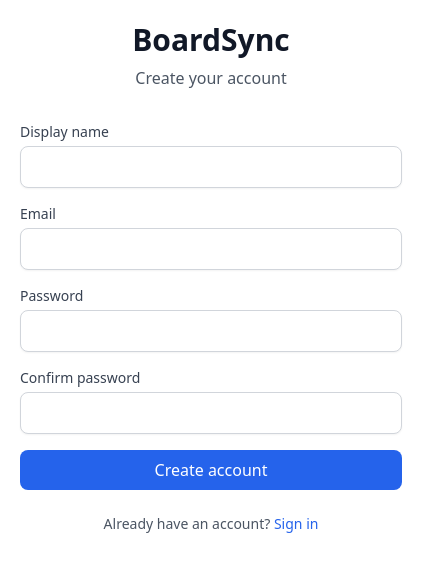
Test: RegisterPage › rejects mismatching passwords
In the field labelled "Display name": [211, 167] box [20,146,402,188], type "Ann"
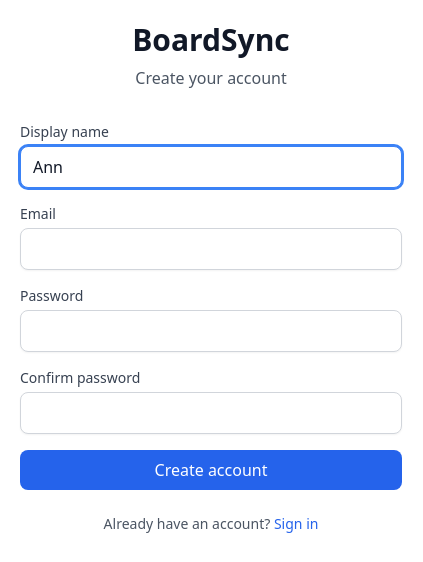
In the field labelled "Email": [211, 249] box [20,228,402,270], type "ann@example.com"
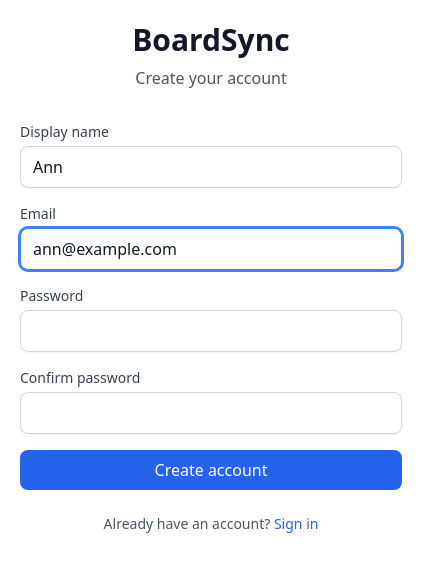
In the password field labelled "Password": [211, 331] box [20,310,402,352], type "password1"
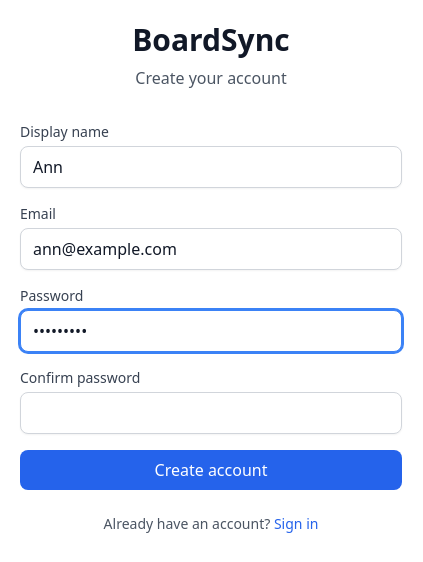
In the password field labelled "Confirm password": [211, 413] box [20,392,402,434], type "password2"
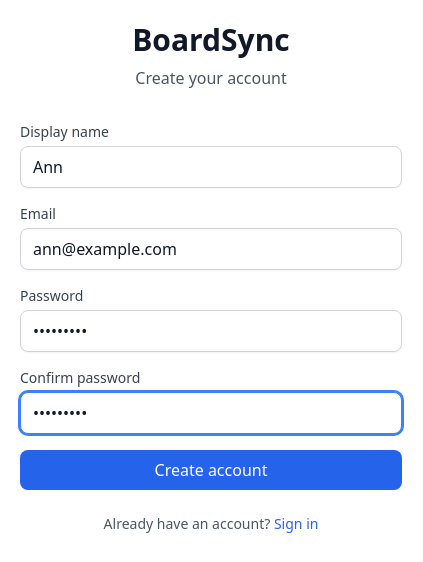
Click the button "Create account": [211, 470] box [20,450,402,490]
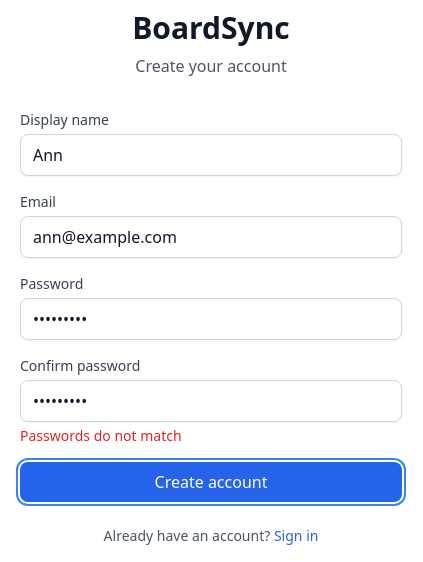
Expected: the text "Passwords do not match" is shown, [20,426,182,445]
